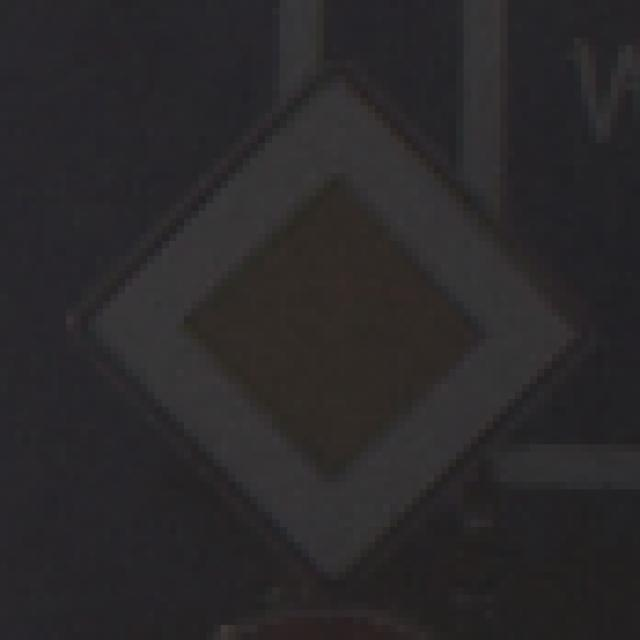Main Road: (53, 62, 590, 589)
